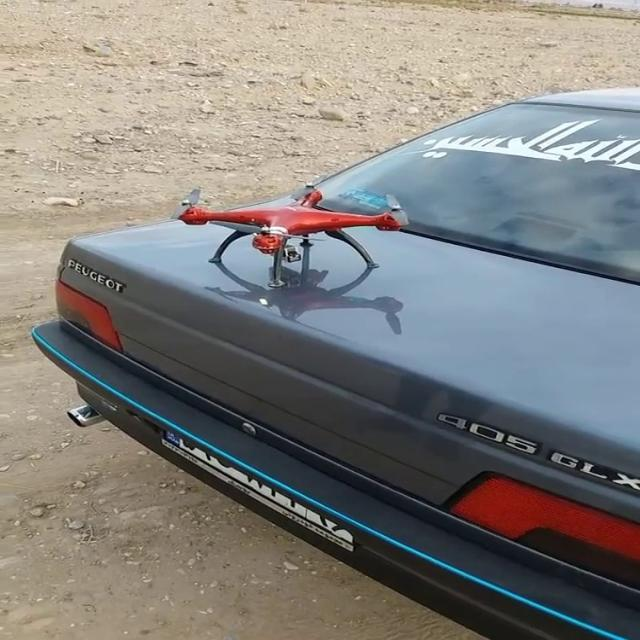drone: (166, 175, 414, 290)
